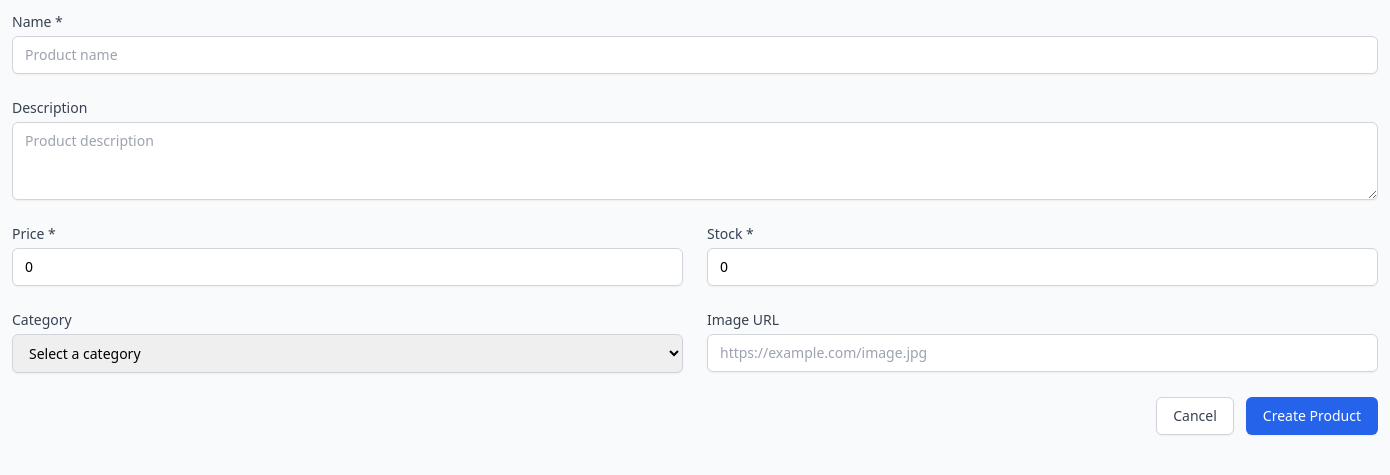
Test: ProductForm › displays validation error for invalid URL
Fill required fields first
Type "Test Product" into the field labelled "Name *" at (695, 55), box top-left (12, 36), bottom-right (1378, 74)
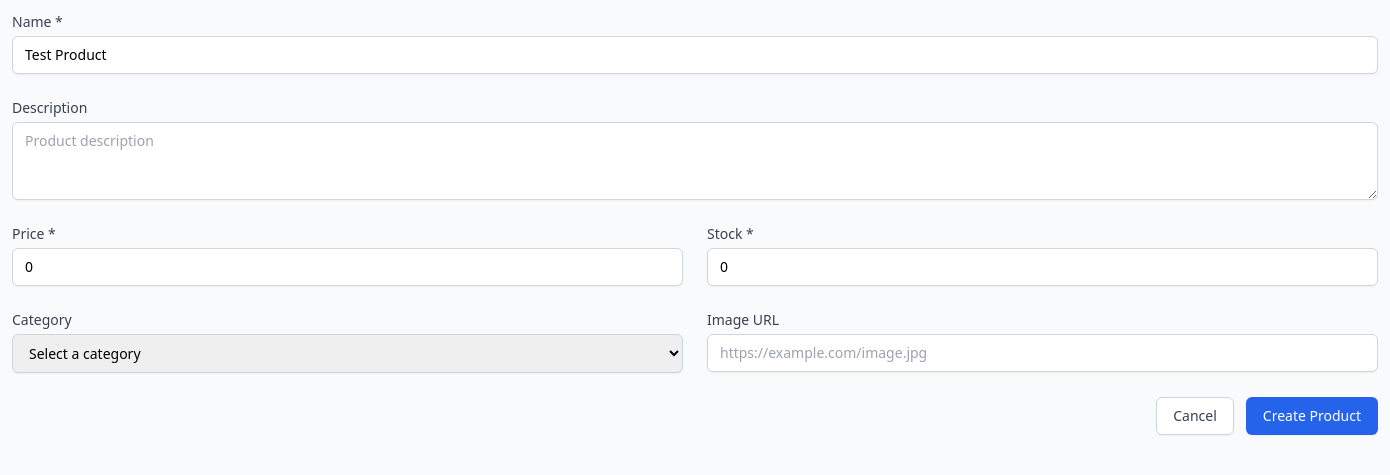
Replace the text in the number field labelled "Price *" with "10" at (348, 267), box top-left (12, 248), bottom-right (683, 286)
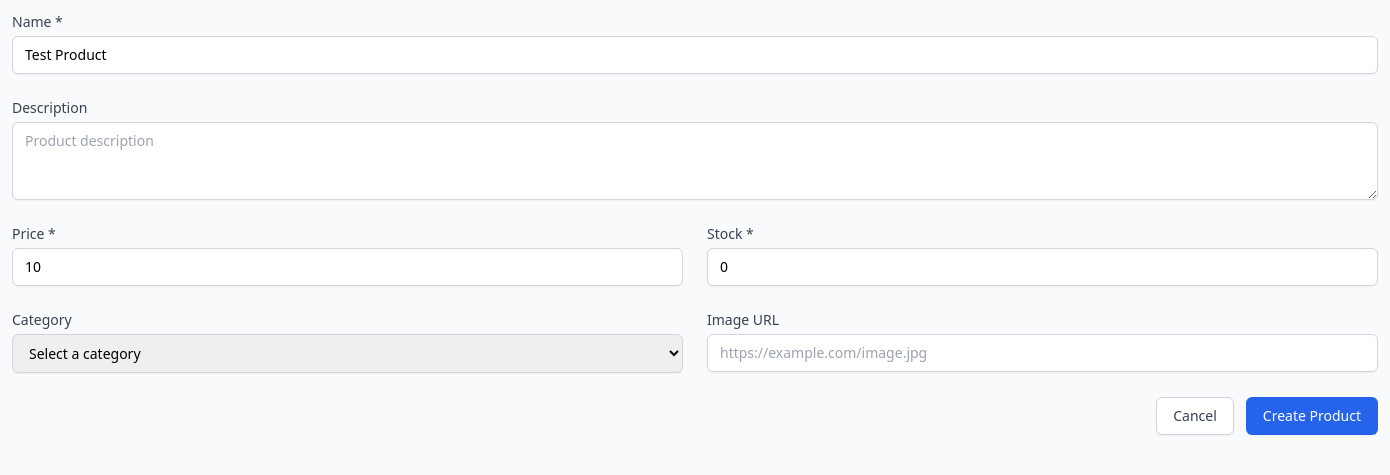
Type "5" into the number field labelled "Stock *" at (1042, 267), box top-left (707, 248), bottom-right (1378, 286)
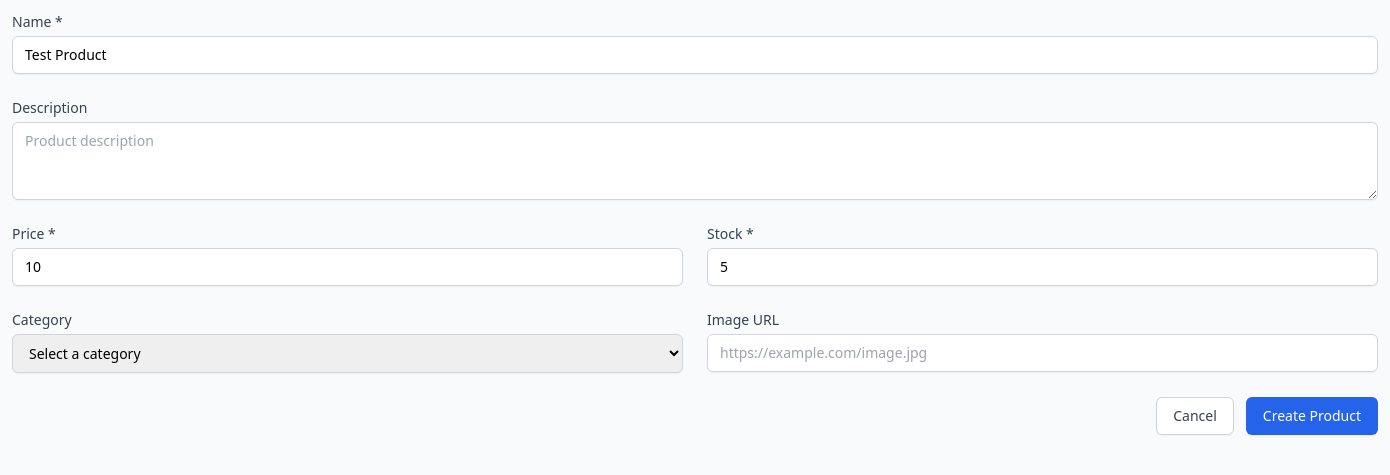
Type "invalid-url" into the field labelled "Image URL" at (1042, 353), box top-left (707, 334), bottom-right (1378, 372)
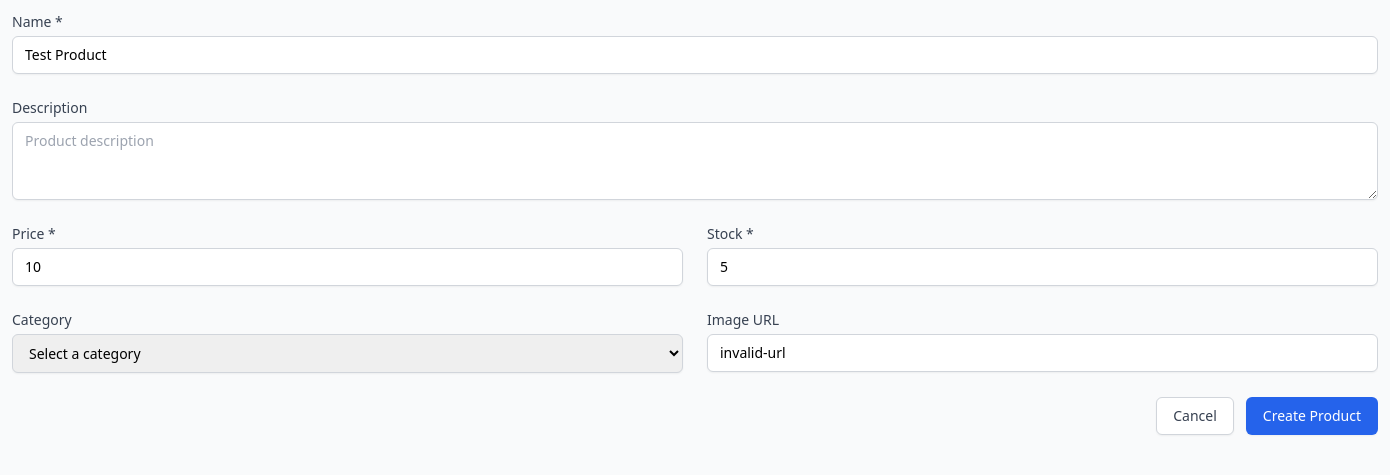
Click the button "Create Product" at (1312, 416), box top-left (1246, 397), bottom-right (1378, 435)
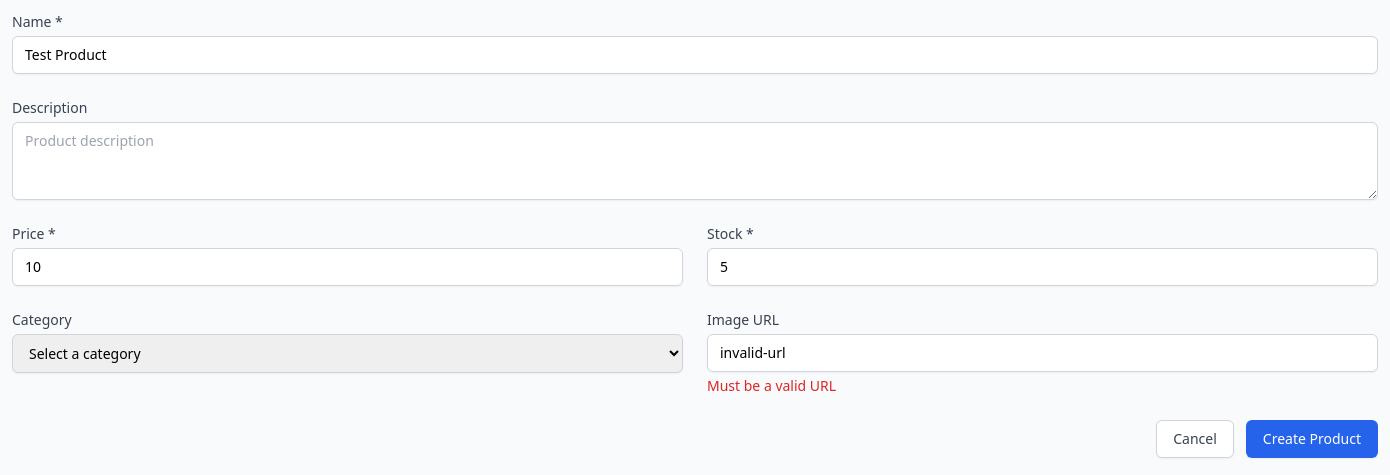
Expected: the text "Must be a valid URL" is shown, top-left (707, 376), bottom-right (836, 395)
